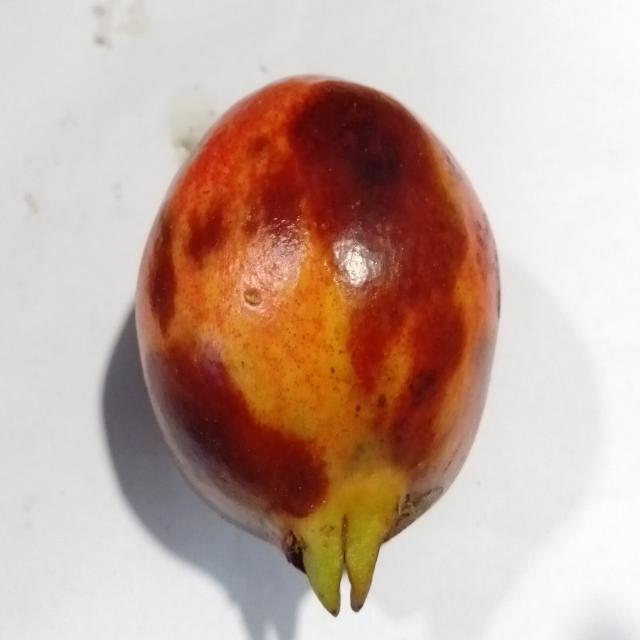Rotten: (134, 66, 508, 615)
